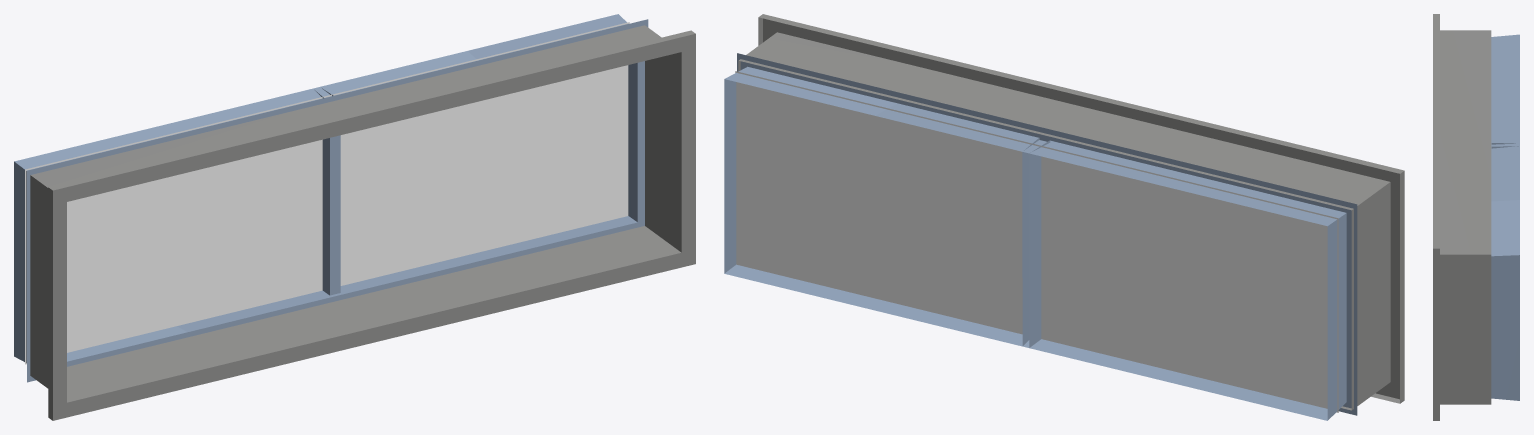
File: SM_H_Building_Tide_Jail_Ventilator_01_ATLAS.fbx
3 views of the same model, side by side, from view 1: azimuth 30°, elevation 25°; view 2: azimuth 150°, elevation 25°; view 3: azimuth 270°, elevation 25° (orthographic). The views are drawn at different scales.
Parts seen in each view (by area): view 1: SM_H_Building_Tide_Jail_Ventilator_01_ATLAS; view 2: SM_H_Building_Tide_Jail_Ventilator_01_ATLAS; view 3: SM_H_Building_Tide_Jail_Ventilator_01_ATLAS.
Boxes of the visible parts, x1,y1,x2,y2 form: SM_H_Building_Tide_Jail_Ventilator_01_ATLAS: (14,14,695,420); SM_H_Building_Tide_Jail_Ventilator_01_ATLAS: (724,14,1404,420); SM_H_Building_Tide_Jail_Ventilator_01_ATLAS: (1433,14,1519,420).
Bounding box in the file's own units: 350 × 54.78 × 120.
